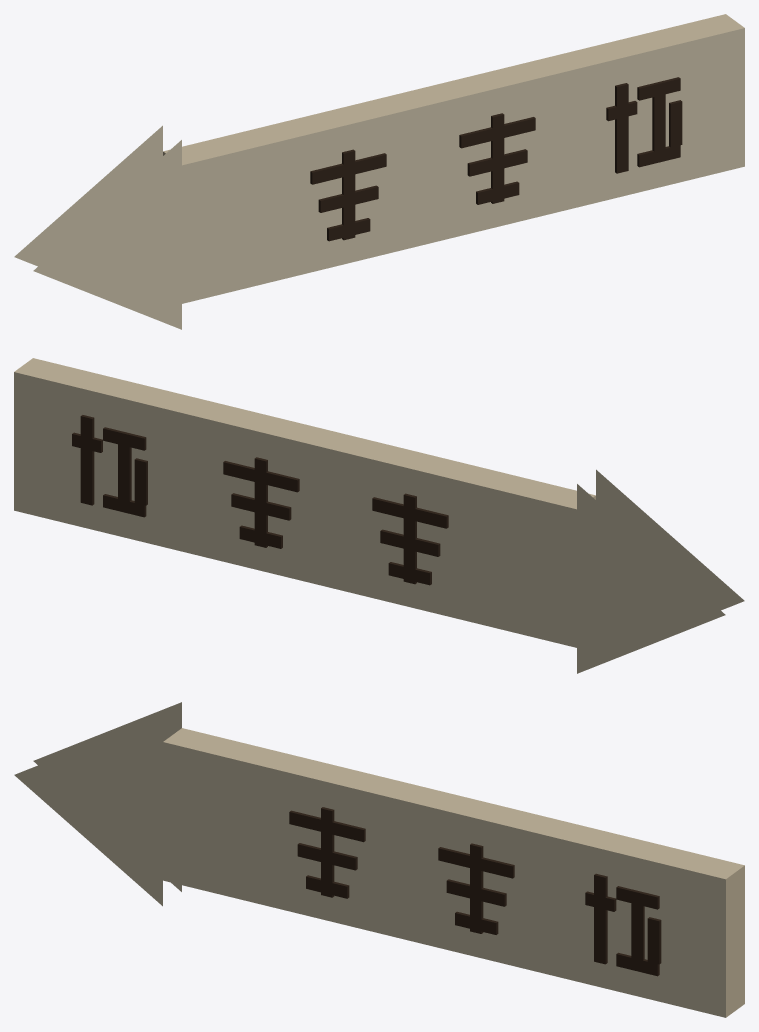
File: Mtn_SignArrow.fbx
The picture shows the model from 3 angles, top to bottom: view 1: azimuth 30°, elevation 25°; view 2: azimuth 150°, elevation 25°; view 3: azimuth 330°, elevation 25°; orthographic projection.
Visible parts, largest first — view 1: Mtn_SignArrow; view 2: Mtn_SignArrow; view 3: Mtn_SignArrow.
Boxes of the visible parts, x1,y1,x2,y2 form: Mtn_SignArrow: (14,14,744,329); Mtn_SignArrow: (14,358,744,673); Mtn_SignArrow: (14,702,744,1017).
Size of the model in its own units: 4.3 by 1.1 by 0.24.
